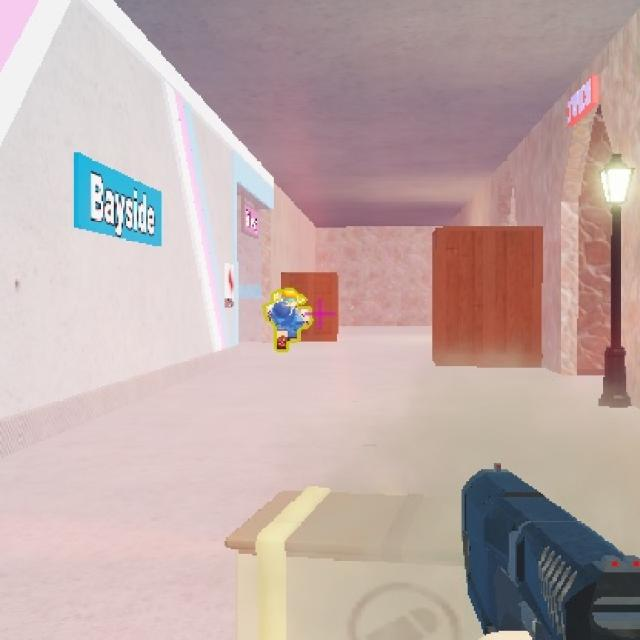player: (265, 284, 309, 356)
